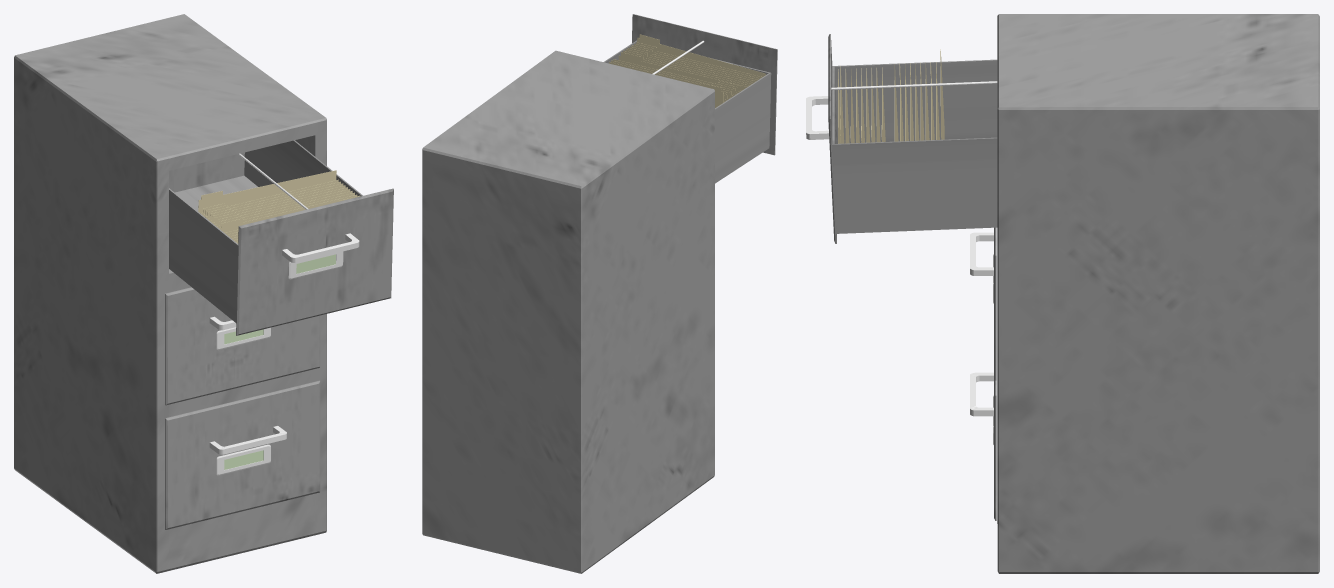
File: MGA3153A.glb
The picture shows the model from 3 angles, left to right: view 1: azimuth 30°, elevation 25°; view 2: azimuth 150°, elevation 25°; view 3: azimuth 270°, elevation 25°; orthographic projection. The views are drawn at different scales.
Parts seen in each view (by area): view 1: Box01-ROOT, topdrawer01-ROOT, Rectangle03-ROOT, Rectangle31-ROOT, Rectangle06-ROOT, Rectangle01-ROOT; view 2: Box01-ROOT, topdrawer01-ROOT, Rectangle31-ROOT; view 3: Box01-ROOT, topdrawer01-ROOT, Rectangle31-ROOT, Rectangle06-ROOT, Rectangle01-ROOT, Rectangle03-ROOT.
Part boxes in pixels (left/top/right/bottom): Box01-ROOT: left=14, top=14, right=326, bottom=573; topdrawer01-ROOT: left=169, top=140, right=393, bottom=335; Rectangle03-ROOT: left=165, top=287, right=320, bottom=529; Rectangle31-ROOT: left=198, top=170, right=360, bottom=243; Rectangle06-ROOT: left=209, top=316, right=286, bottom=475; Rectangle01-ROOT: left=238, top=153, right=359, bottom=279; Box01-ROOT: left=422, top=50, right=714, bottom=573; topdrawer01-ROOT: left=603, top=14, right=777, bottom=183; Rectangle31-ROOT: left=609, top=34, right=765, bottom=107; Box01-ROOT: left=997, top=14, right=1319, bottom=573; topdrawer01-ROOT: left=828, top=34, right=997, bottom=243; Rectangle31-ROOT: left=838, top=49, right=944, bottom=143; Rectangle06-ROOT: left=970, top=232, right=993, bottom=444; Rectangle01-ROOT: left=806, top=81, right=997, bottom=139; Rectangle03-ROOT: left=994, top=227, right=996, bottom=520.
Bounding box in the file's own units: 33.08 × 76.56 × 76.38.
Materials: 4 (1 with a texture image).
